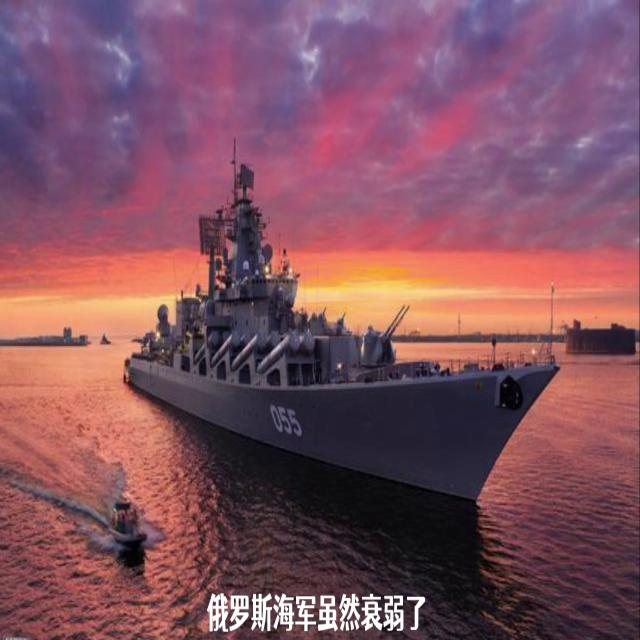houseboat: (109, 496, 146, 550)
navalvessels: (124, 160, 560, 506)
